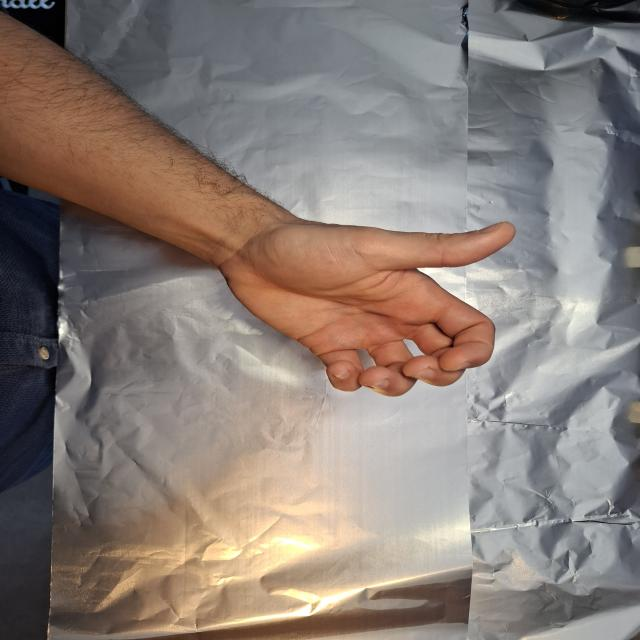glove_off: (200, 195, 519, 399)
